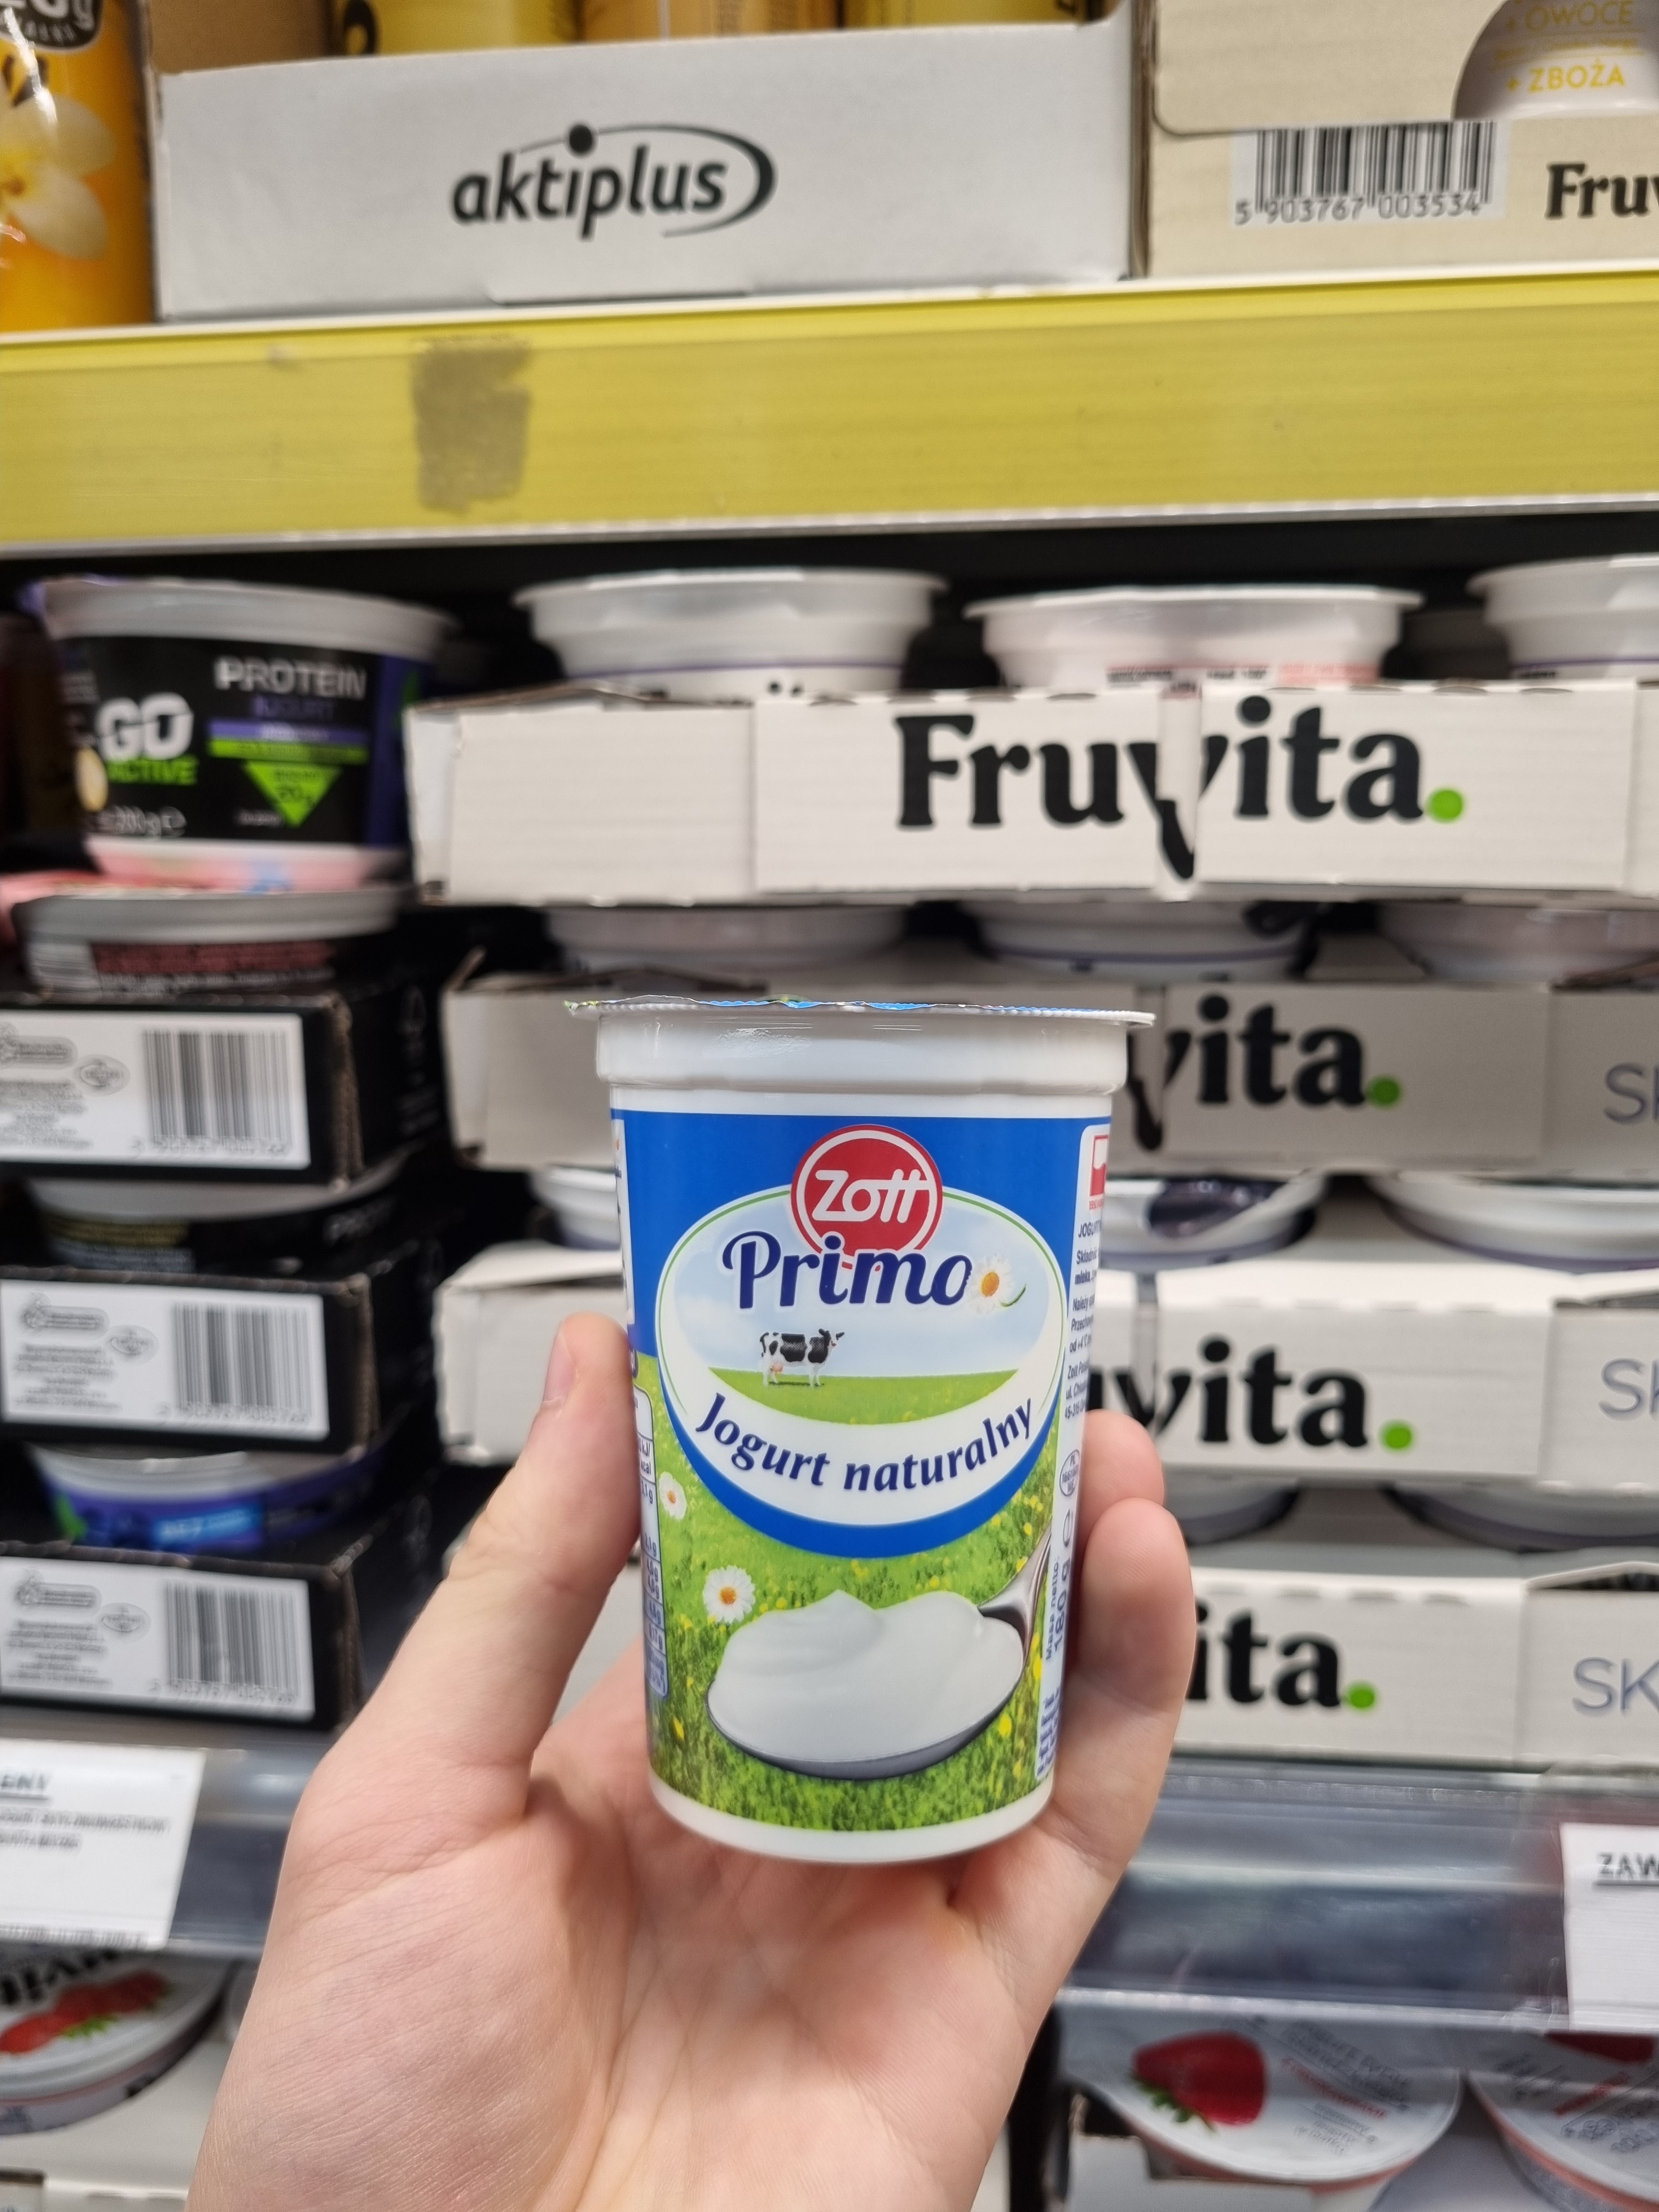Yogurt: (565, 996, 1147, 1855)
